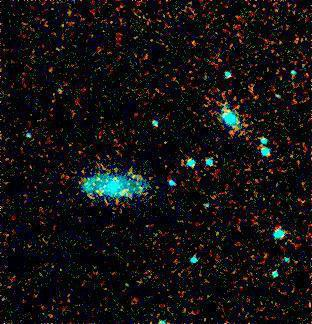star: (112, 175, 142, 205)
